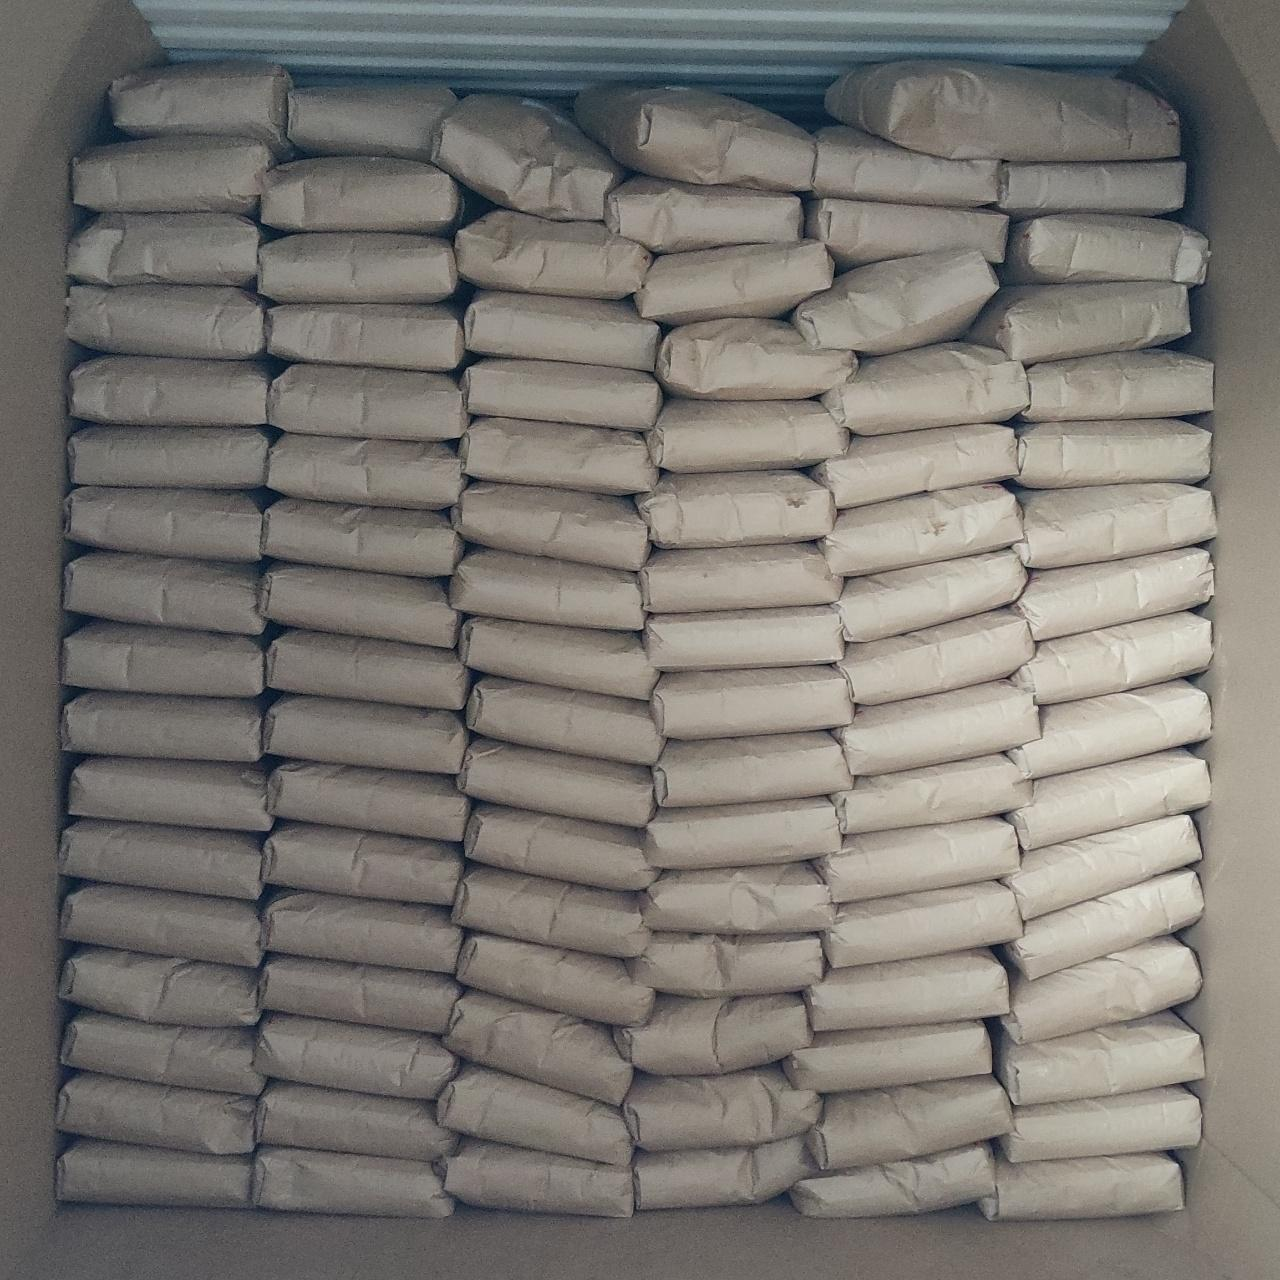sack: (828, 61, 1179, 159), (576, 87, 813, 190), (433, 96, 624, 219), (1005, 870, 1201, 980), (442, 990, 631, 1105), (1000, 815, 1200, 920), (791, 252, 998, 354), (1003, 937, 1200, 1043), (1006, 748, 1208, 850), (1008, 679, 1208, 779), (832, 679, 1040, 775), (992, 1012, 1203, 1105), (808, 1075, 1012, 1169), (821, 342, 1029, 434), (838, 607, 1034, 704), (965, 281, 1189, 366), (437, 1065, 629, 1163), (1013, 612, 1212, 704), (1019, 547, 1213, 641), (821, 485, 1022, 576), (452, 865, 648, 956), (458, 737, 654, 828), (110, 61, 293, 157), (456, 209, 651, 299), (452, 481, 648, 570), (838, 550, 1028, 641), (467, 676, 663, 764), (457, 934, 654, 1022), (822, 880, 1021, 967), (819, 817, 1020, 903), (812, 424, 1017, 508), (64, 551, 266, 635), (1017, 483, 1216, 568), (256, 1015, 456, 1099), (804, 949, 1009, 1032), (62, 1012, 263, 1095), (463, 804, 658, 890), (655, 318, 858, 400), (634, 240, 833, 324), (62, 885, 263, 967), (263, 891, 463, 973), (625, 1064, 819, 1149), (263, 564, 458, 647), (59, 821, 263, 900), (57, 1073, 256, 1155), (832, 754, 1032, 835), (267, 629, 469, 709), (459, 617, 658, 697), (809, 125, 1003, 207), (465, 290, 660, 372), (263, 156, 464, 234), (266, 696, 468, 775), (256, 1081, 454, 1160), (72, 137, 275, 215), (267, 762, 468, 840), (66, 486, 275, 561), (449, 549, 644, 629), (617, 994, 811, 1075), (259, 956, 462, 1034), (604, 175, 803, 253), (264, 825, 463, 904), (61, 947, 259, 1026), (264, 498, 463, 576), (636, 471, 835, 547), (783, 1020, 990, 1092), (791, 1143, 995, 1217), (647, 399, 847, 474), (62, 622, 263, 697), (268, 433, 465, 509), (267, 365, 467, 440), (1001, 1085, 1200, 1160), (459, 418, 658, 493), (654, 731, 852, 806), (441, 1139, 632, 1217), (67, 285, 264, 360), (806, 199, 1008, 272), (652, 666, 853, 738), (70, 758, 272, 831), (1002, 215, 1208, 285), (462, 359, 662, 430), (639, 543, 842, 613), (642, 797, 840, 869), (69, 356, 272, 425), (257, 233, 458, 302), (67, 213, 261, 285), (62, 692, 263, 761), (1020, 350, 1213, 422), (254, 1148, 454, 1217), (978, 1153, 1183, 1220), (641, 862, 835, 932), (268, 304, 463, 372), (634, 1136, 811, 1210), (1016, 418, 1208, 486), (644, 606, 844, 670), (57, 1141, 251, 1207), (69, 425, 273, 489), (626, 932, 822, 998), (288, 86, 457, 161), (998, 159, 1186, 217)
